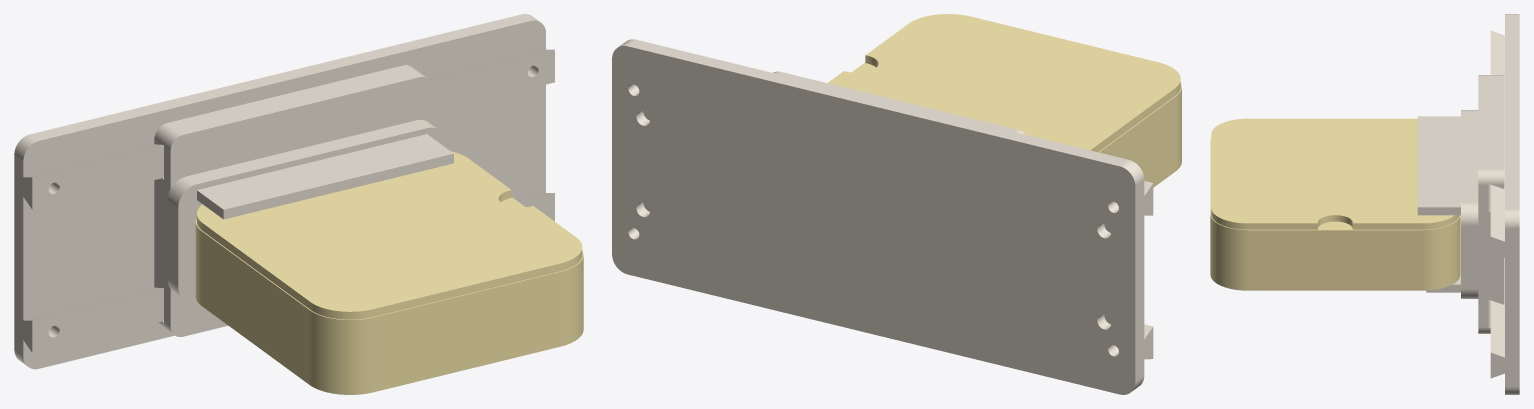
The model's file is manual-rail-clock.glb.
3 views of the same model, side by side, from view 1: azimuth 30°, elevation 25°; view 2: azimuth 150°, elevation 25°; view 3: azimuth 270°, elevation 25° (orthographic). The views are drawn at different scales.
Visible parts, largest first — view 1: clock-rail-168__1, clock-back-cover__4, clock-rail-cradle__2, manual-clock-body__3; view 2: clock-rail-168__1, clock-back-cover__4, manual-clock-body__3, clock-rail-cradle__2; view 3: clock-back-cover__4, manual-clock-body__3, clock-rail-cradle__2, clock-rail-168__1.
Part boxes in pixels (bbox=[...]): clock-rail-168__1: bbox=[14, 14, 554, 369]; clock-back-cover__4: bbox=[196, 151, 582, 319]; clock-rail-cradle__2: bbox=[154, 65, 453, 336]; manual-clock-body__3: bbox=[195, 197, 583, 394]; clock-rail-168__1: bbox=[612, 39, 1153, 394]; clock-back-cover__4: bbox=[827, 14, 1180, 152]; manual-clock-body__3: bbox=[852, 62, 1181, 187]; clock-rail-cradle__2: bbox=[773, 71, 1025, 134]; clock-back-cover__4: bbox=[1211, 118, 1459, 229]; manual-clock-body__3: bbox=[1210, 137, 1460, 290]; clock-rail-cradle__2: bbox=[1417, 75, 1504, 333]; clock-rail-168__1: bbox=[1490, 14, 1519, 394].
Size of the model in its own units: 0.168 by 0.07 by 0.1064.
